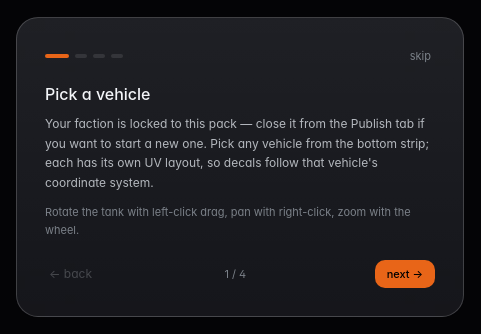
Test: OnboardingOverlay — steps › next → advances to step 2 ("Apply a camo")
Click the button "next →": (405,274) top-left (375, 260), bottom-right (435, 288)
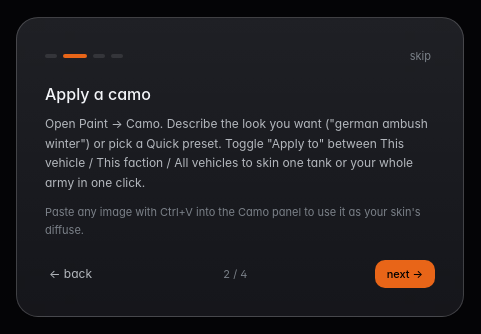
Expected: the element with class "glass-3" shows "Apply a camo", top-left (45, 84), bottom-right (151, 104)
Expected: the element with class "glass-3" shows "2 / 4"
Expected: the button "← back" is enabled, top-left (45, 265), bottom-right (96, 283)
